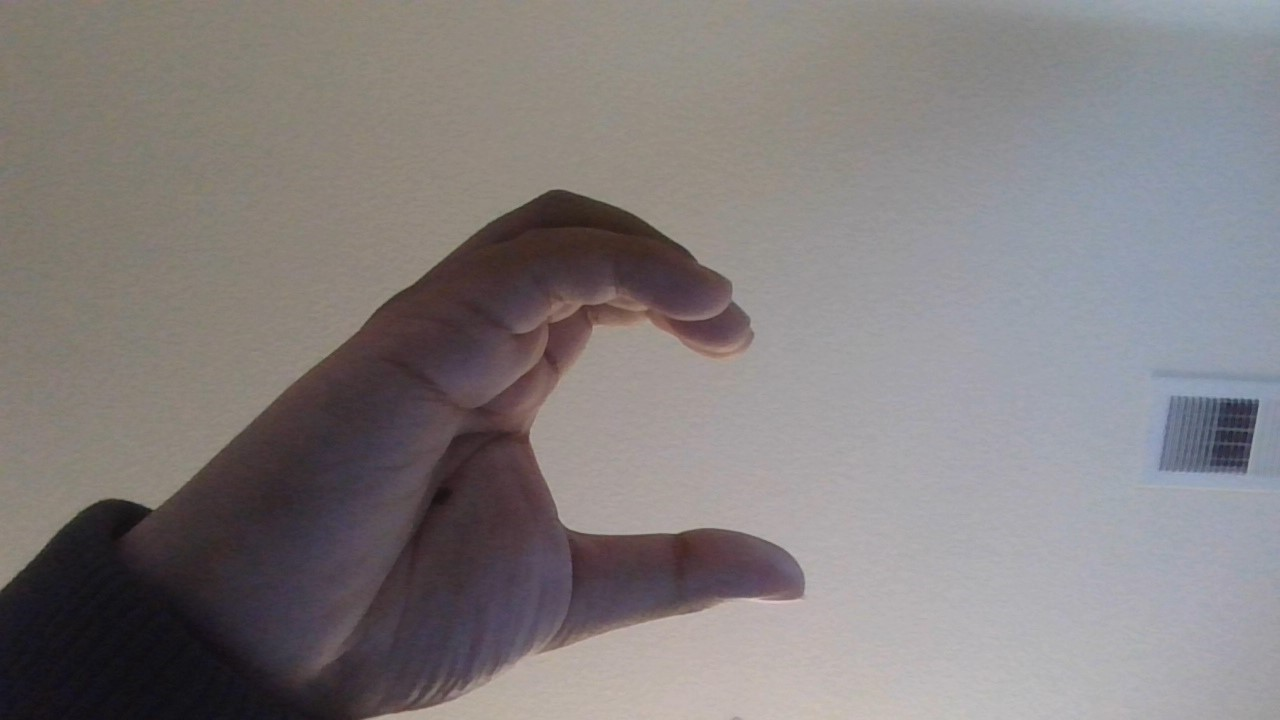c: (67, 166, 867, 720)
